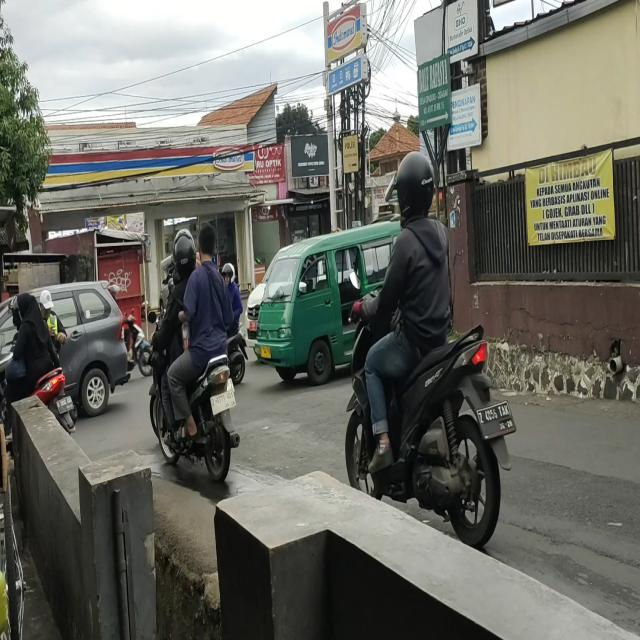helmet: (394, 152, 436, 215), (172, 228, 198, 282), (222, 262, 236, 288), (8, 295, 19, 328)
no-helmet: (196, 218, 220, 268), (19, 294, 39, 322)
